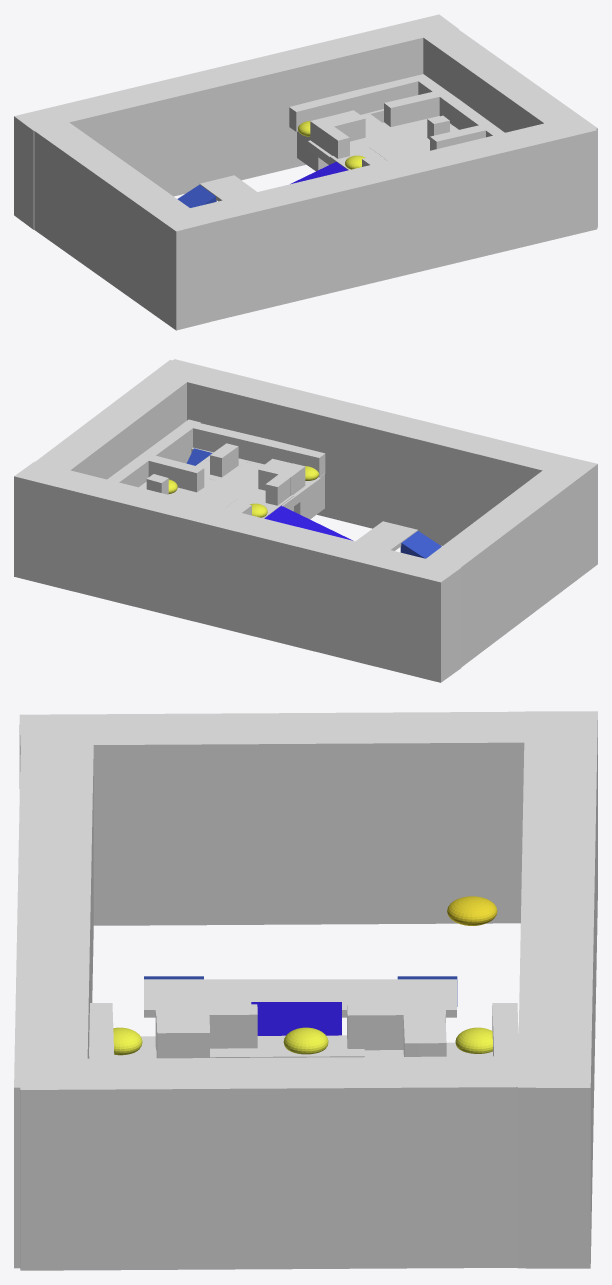
The model's file is MapaTesteJoao.fbx.
3 views of the same model, one above another, from view 1: azimuth 30°, elevation 25°; view 2: azimuth 150°, elevation 25°; view 3: azimuth 270°, elevation 25° (orthographic). The views are drawn at different scales.
Parts seen in each view (by area): view 1: Plataformas.005, Plataformas.002, Plataformas.004, Plataformas.001, Paredes piso 2, Piso Andar 2, Paredes 1, Escadas, Plataformas; view 2: Plataformas.002, Plataformas.005, Plataformas.004, Plataformas.001, Paredes piso 2, Paredes 1, Piso Andar 2, Escadas, Plataformas, Pontos de conquista piso 2; view 3: Plataformas.001, Plataformas.004, Plataformas.002, Plataformas.005, Paredes piso 2, Plataformas, Escadas, Pontos de conquista piso 2, Paredes 1, Pontos de conquista piso 1, Piso Andar 2.
Boxes of the visible parts, x1,y1,x2,y2 form: Plataformas.005: (158, 115, 597, 321); Plataformas.002: (14, 14, 458, 229); Plataformas.004: (18, 111, 210, 330); Plataformas.001: (406, 16, 597, 227); Paredes piso 2: (289, 74, 504, 166); Piso Andar 2: (307, 114, 453, 164); Paredes 1: (297, 109, 458, 171); Escadas: (177, 162, 347, 207); Plataformas: (199, 175, 256, 201); Plataformas.002: (14, 461, 461, 682); Plataformas.005: (158, 359, 561, 545); Plataformas.004: (411, 455, 597, 678); Plataformas.001: (18, 360, 205, 482); Paredes piso 2: (107, 419, 325, 515); Paredes 1: (139, 447, 324, 519); Piso Andar 2: (196, 455, 320, 509); Escadas: (186, 448, 441, 558); Plataformas: (356, 521, 417, 550); Pontos de conquista piso 2: (168, 466, 319, 517); Plataformas.001: (19, 1056, 581, 1270); Plataformas.004: (19, 711, 580, 925); Plataformas.002: (517, 711, 597, 1268); Plataformas.005: (14, 716, 93, 1268); Paredes piso 2: (89, 1003, 518, 1058); Plataformas: (144, 979, 456, 1017); Escadas: (144, 976, 457, 1035); Pontos de conquista piso 2: (113, 1027, 492, 1055); Paredes 1: (114, 1035, 492, 1058); Pontos de conquista piso 1: (447, 896, 497, 925); Piso Andar 2: (122, 1036, 403, 1058).
Size of the model in its own units: 27046 by 6016 by 17622.
